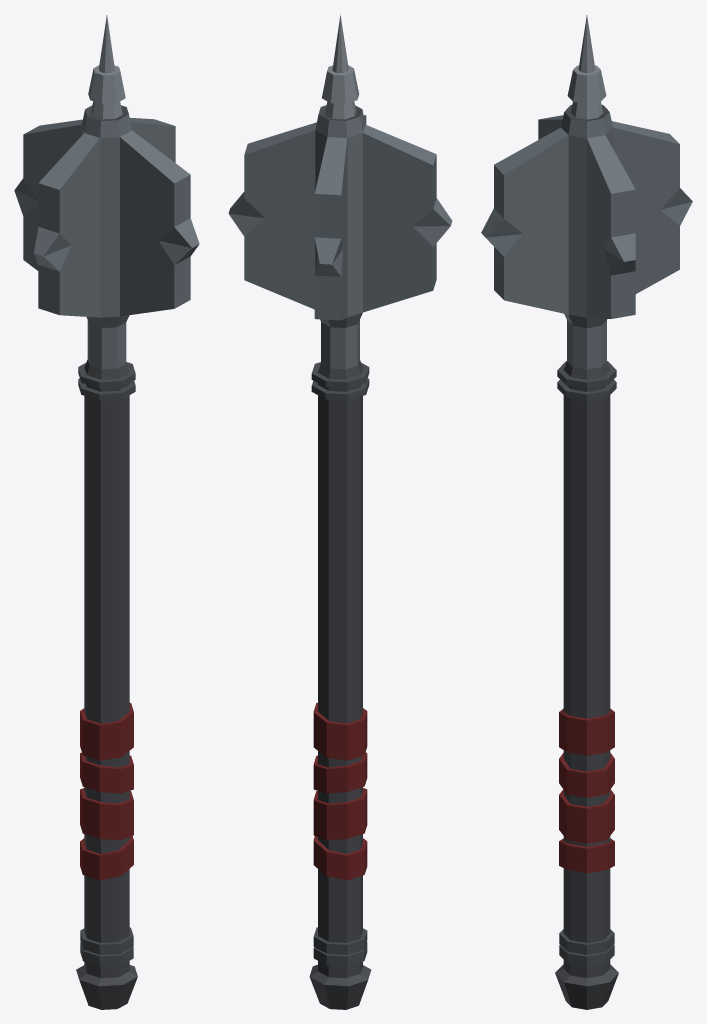
File: Mace.glb
The picture shows the model from 3 angles, left to right: view 1: azimuth 30°, elevation 25°; view 2: azimuth 150°, elevation 25°; view 3: azimuth 270°, elevation 25°; orthographic projection.
Visible parts, largest first — view 1: Mace; view 2: Mace; view 3: Mace.
Part boxes in pixels (box(x1,y1,x2,y2)): Mace: box(14, 15, 199, 1009); Mace: box(228, 14, 452, 1009); Mace: box(481, 15, 692, 1009).
Bounding box in the file's own units: 5575 × 28652 × 5575.
1 material, 1 textured.
